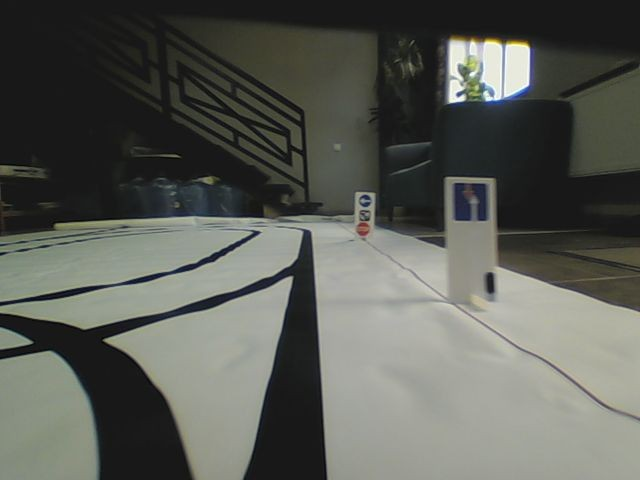priority_movement: (451, 181, 491, 223)
